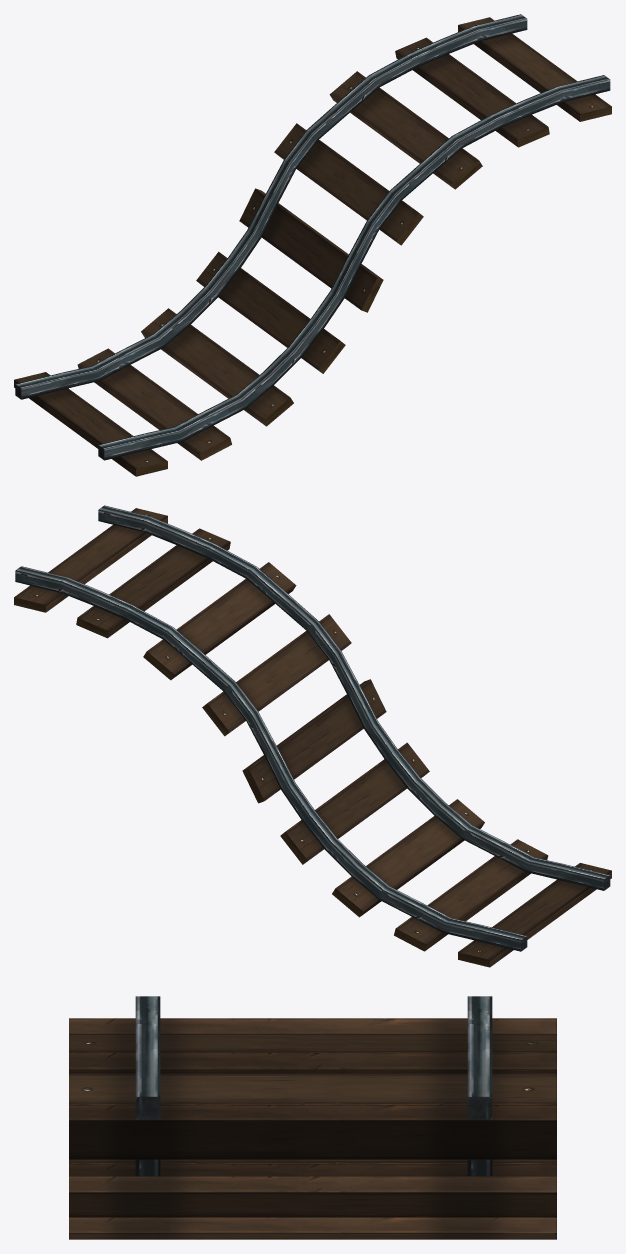
The model's file is rail11.FBX.
The picture shows the model from 3 angles, top to bottom: view 1: azimuth 30°, elevation 25°; view 2: azimuth 150°, elevation 25°; view 3: azimuth 270°, elevation 25°; orthographic projection. The views are drawn at different scales.
Parts seen in each view (by area): view 1: rail11; view 2: rail11; view 3: rail11.
Part boxes in pixels (x1,y1,x2,y2): rail11: (14,14,611,476); rail11: (14,505,611,967); rail11: (69,996,556,1239).
Size of the model in its own units: 285 by 143 by 119.
